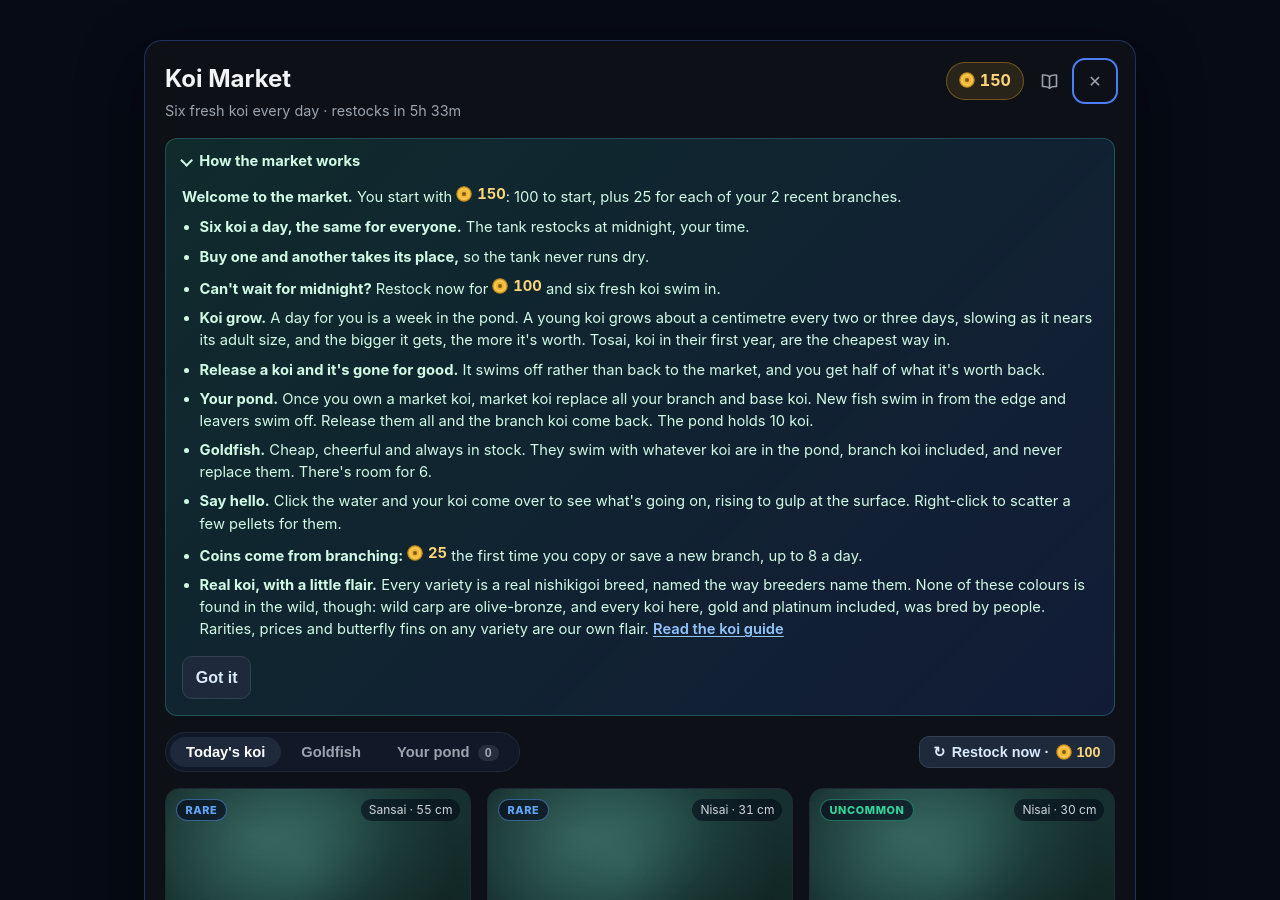
KoiMarket › explains how the market works, open for a new visitor with their welcome
Expected: the text "Welcome to the market" shows "plus 25 for each of your 2 recent branches", [506,188,902,206]
Expected: the text "How the market works" shows "Six koi a day, the same for everyone.", [200,218,462,236]
Click the button "Got it" at (217, 678), box [182,656,251,699]
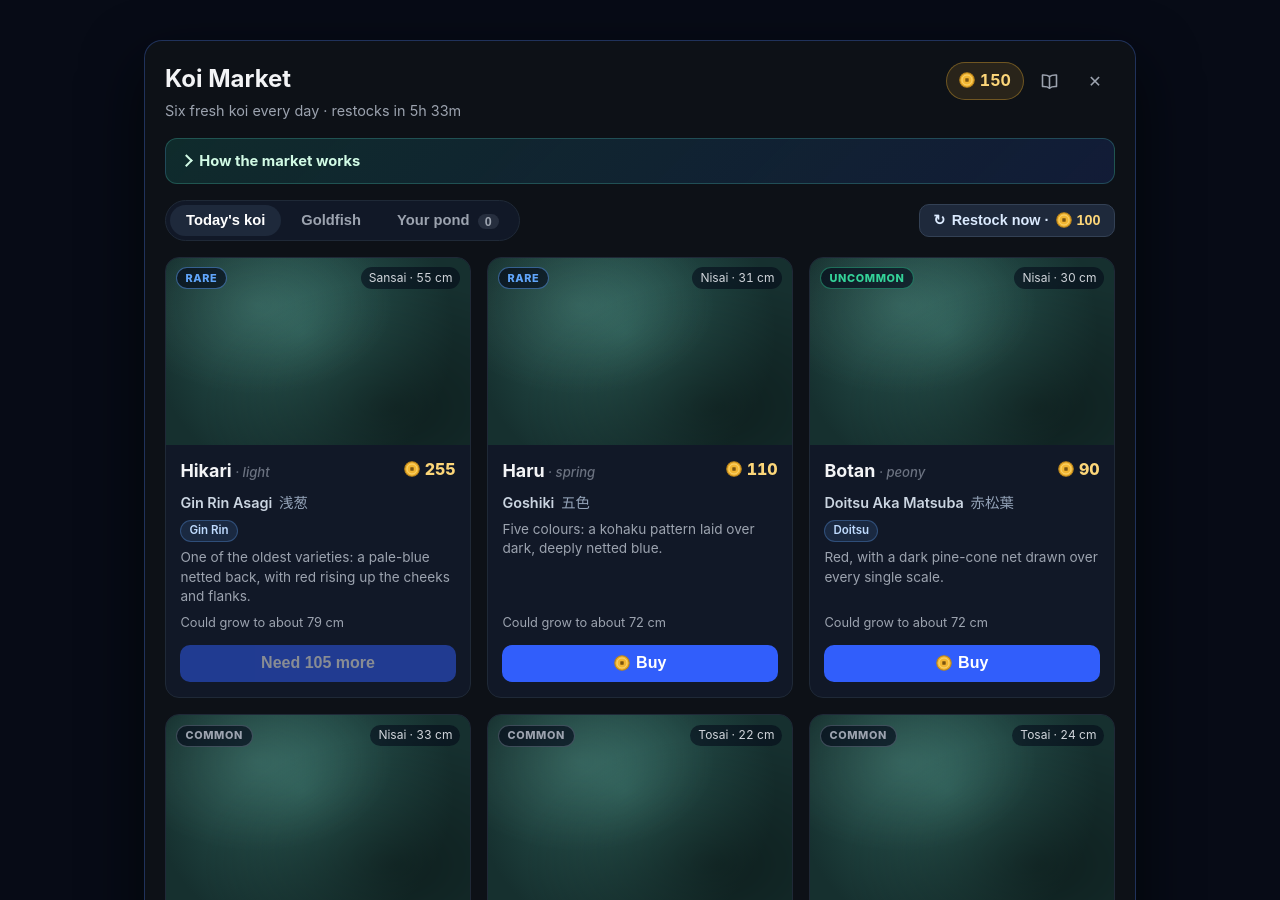
Expected: the text "Welcome to the market" is gone
